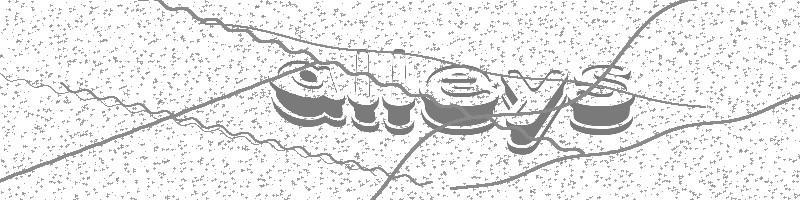a: (268, 59, 347, 129)
e: (418, 63, 499, 136)
l: (381, 48, 416, 136), (347, 49, 381, 134)
s: (567, 63, 636, 136)
y: (500, 68, 566, 156)
